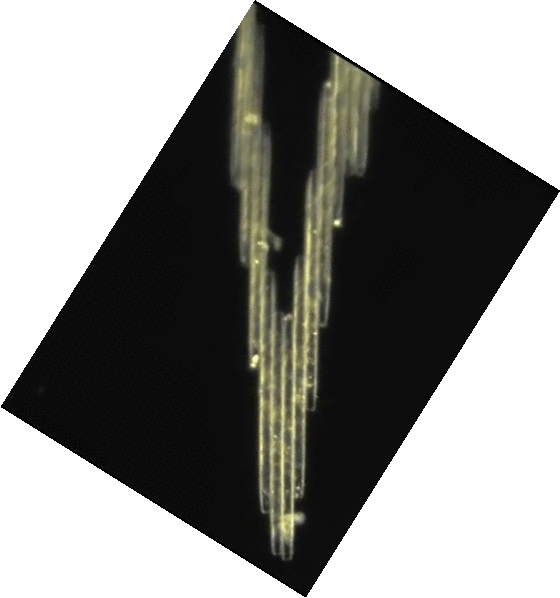bacilleria: (270, 311, 285, 557), (318, 93, 334, 323), (242, 112, 265, 263), (236, 20, 257, 184), (259, 270, 273, 514), (251, 133, 264, 371), (305, 172, 317, 410), (283, 314, 294, 560), (294, 260, 305, 500), (332, 55, 346, 227), (354, 68, 370, 171)
